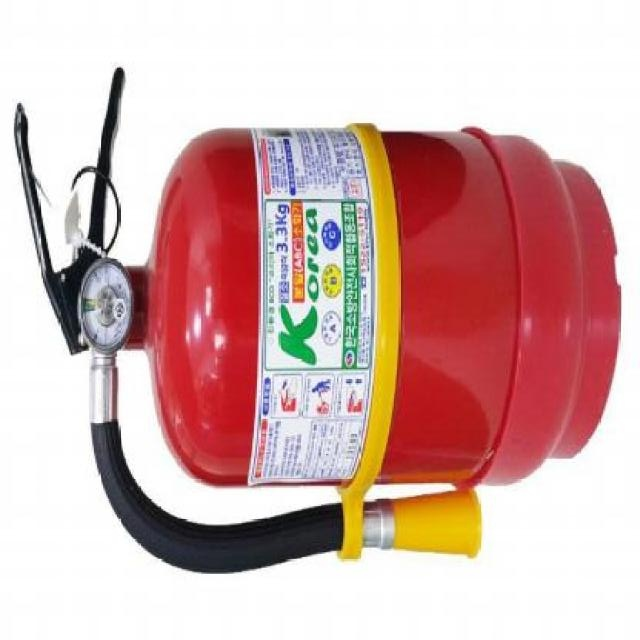fire extinguisher: (14, 66, 621, 577)
